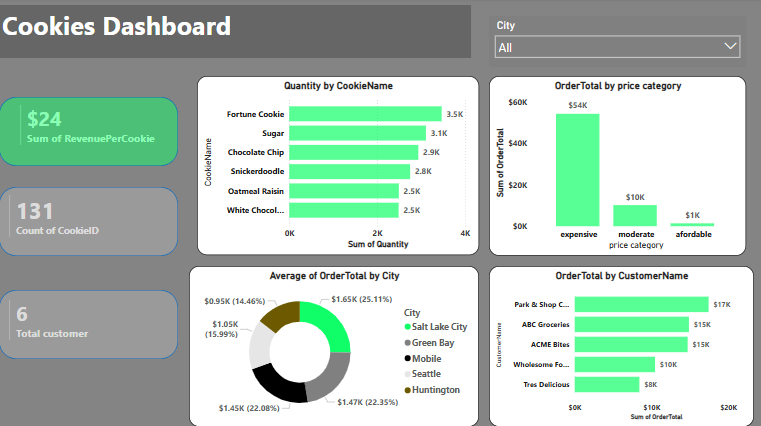

The page's visual inventory and layout, read from the dashboard file:
{"tool":"powerbi","page":{"name":"Page 1","canvas":[1280,720],"ordinal":0},"visuals":[{"type":"clusteredBarChart","title":" Quantity by CookieName","fields":{"Category":["Product$.CookieName"],"Y":["Sum(Order_Product$.Quantity)"]},"box":[332.6,131,473.7,300.7],"z":0},{"type":"textbox","box":[0,11.8,792.9,89],"z":1000},{"type":"multiRowCard","fields":{"Values":["Order_Product$.CookieID"]},"box":[11.8,325.9,277.2,99.1],"z":2000},{"type":"multiRowCard","fields":{"Values":["Product$.RevenuePerCookie"]},"box":[30.2,174.7,258.7,99.1],"z":3000},{"type":"clusteredBarChart","title":" OrderTotal by CustomerName","fields":{"Category":["Customers$.CustomerName"],"Y":["Sum(Orders$.OrderTotal)"]},"box":[823.1,450.2,445.1,270.4],"z":4000},{"type":"donutChart","fields":{"Category":["Customers$.City"],"Y":["Avg(Orders$.OrderTotal)"]},"box":[319.2,450.2,487.1,270.4],"z":5000},{"type":"multiRowCard","fields":{"Values":["Customers$.Total customer"]},"box":[11.8,502.3,277.2,87.3],"z":6000},{"type":"clusteredColumnChart","title":"OrderTotal by price category","fields":{"Category":["Orders$.price category"],"Y":["Sum(Orders$.OrderTotal)"]},"box":[823.1,131,431.7,302.4],"z":7000},{"type":"shape","box":[0,166.3,300.7,115.9],"z":8000},{"type":"shape","box":[0,317.5,300.7,115.9],"z":9000},{"type":"shape","box":[0,490.5,300.7,115.9],"z":10000},{"type":"slicer","fields":{"Values":["Customers$.City"]},"box":[823.1,30.2,431.7,85.7],"z":10001}]}

Visuals, with their boxes in screenshot pixels (x1, y1, x2, y2), scaled from the page's 1280x720 canvas onto the 761x426 screenshot:
" Quantity by CookieName" clusteredBarChart: <bbox>198, 78, 479, 255</bbox>
textbox: <bbox>0, 7, 471, 60</bbox>
multiRowCard - Order_Product$.CookieID: <bbox>7, 193, 172, 251</bbox>
multiRowCard - Product$.RevenuePerCookie: <bbox>18, 103, 172, 162</bbox>
" OrderTotal by CustomerName" clusteredBarChart: <bbox>489, 266, 754, 425</bbox>
donutChart - Customers$.City x Avg(Orders$.OrderTotal): <bbox>190, 266, 479, 425</bbox>
multiRowCard - Customers$.Total customer: <bbox>7, 297, 172, 349</bbox>
"OrderTotal by price category" clusteredColumnChart: <bbox>489, 78, 746, 256</bbox>
shape: <bbox>0, 98, 179, 167</bbox>
shape: <bbox>0, 188, 179, 256</bbox>
shape: <bbox>0, 290, 179, 359</bbox>
slicer - Customers$.City: <bbox>489, 18, 746, 69</bbox>
